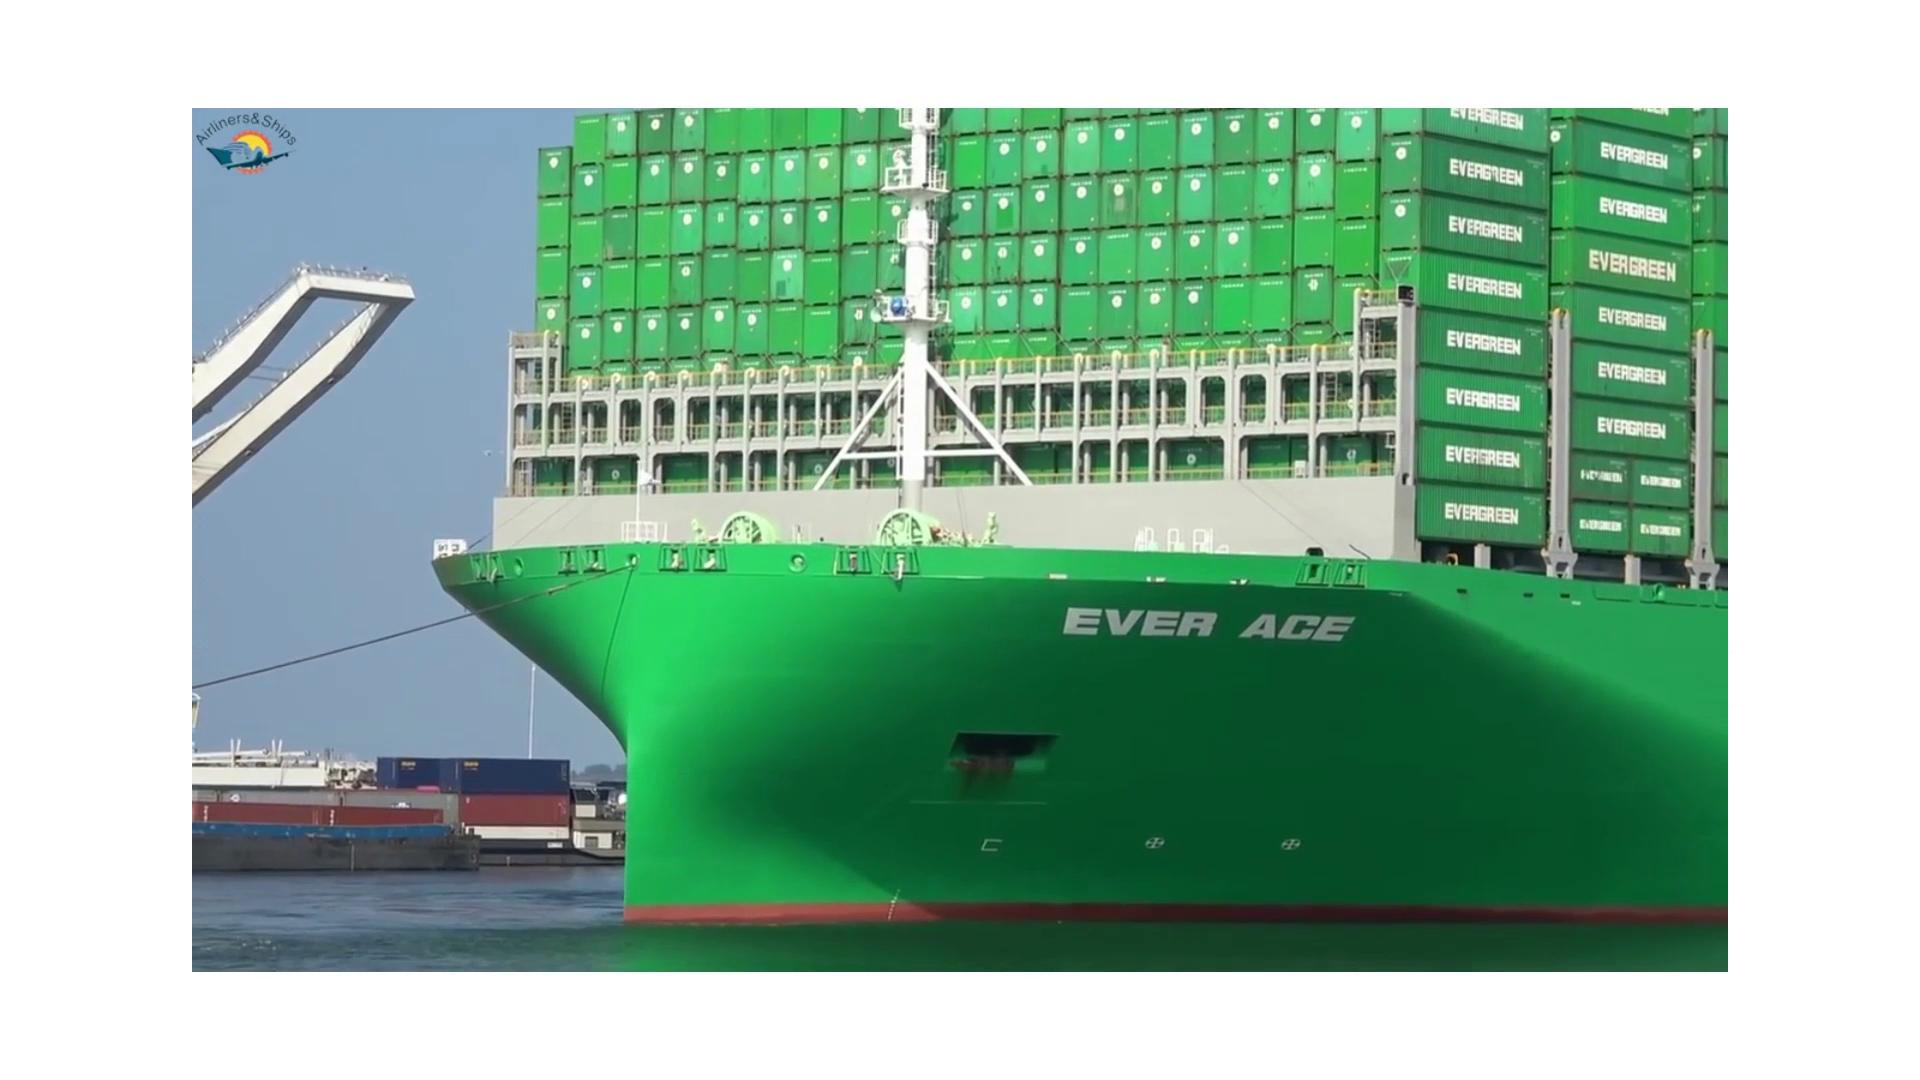OCR: (1036, 588, 1367, 665)
